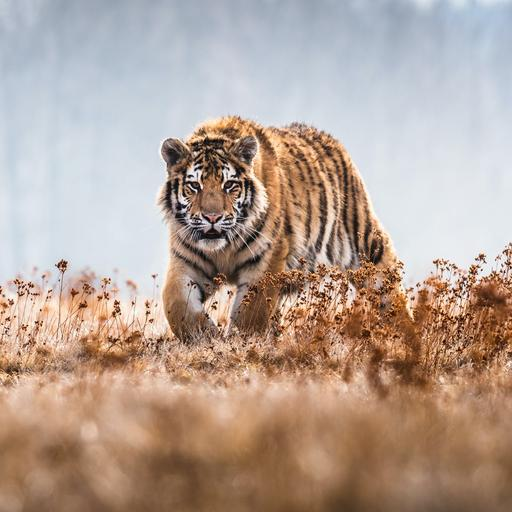Tiger: (136, 102, 433, 399)
